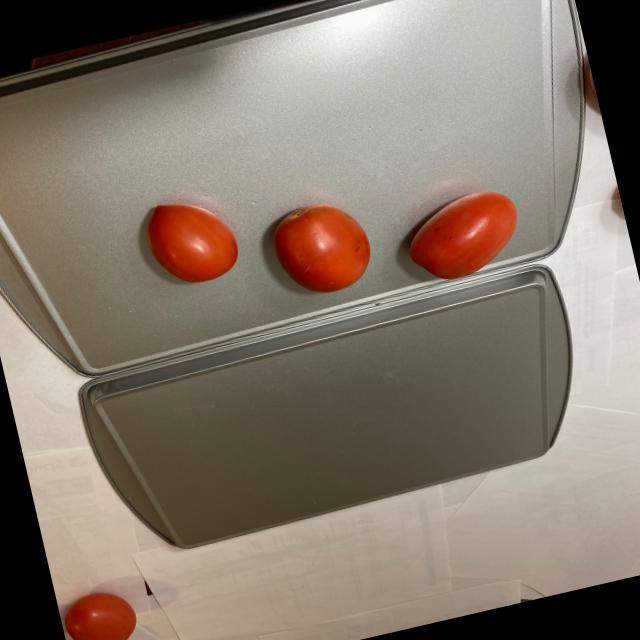tomato: (131, 117, 530, 347), (55, 577, 150, 640)
